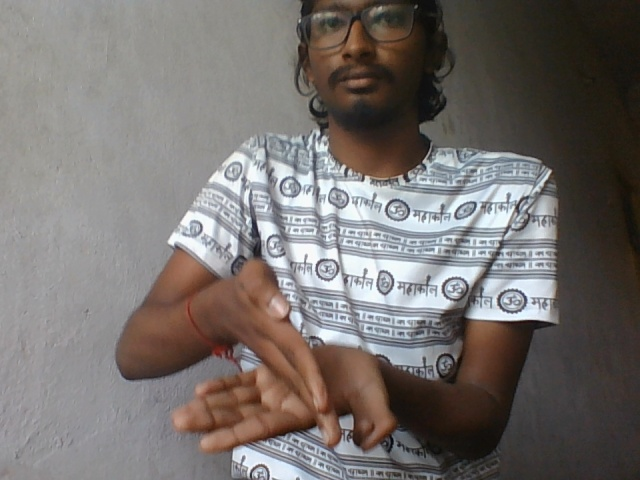Done: (161, 254, 423, 456)
